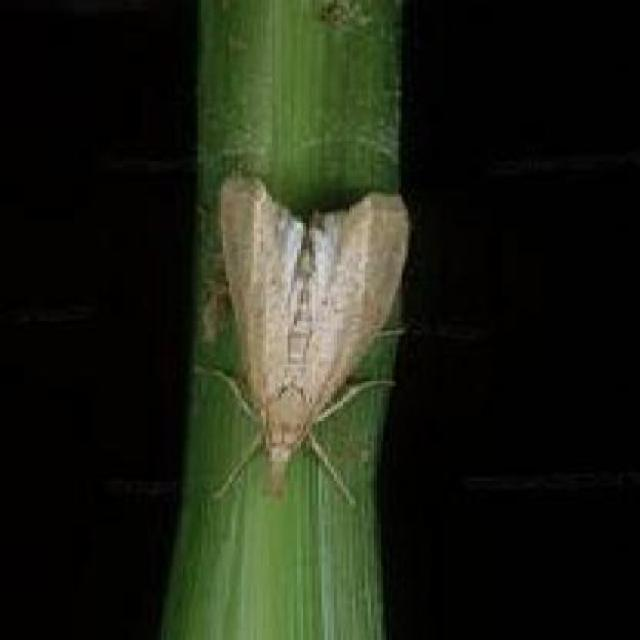stem-borer: (212, 172, 376, 510)
